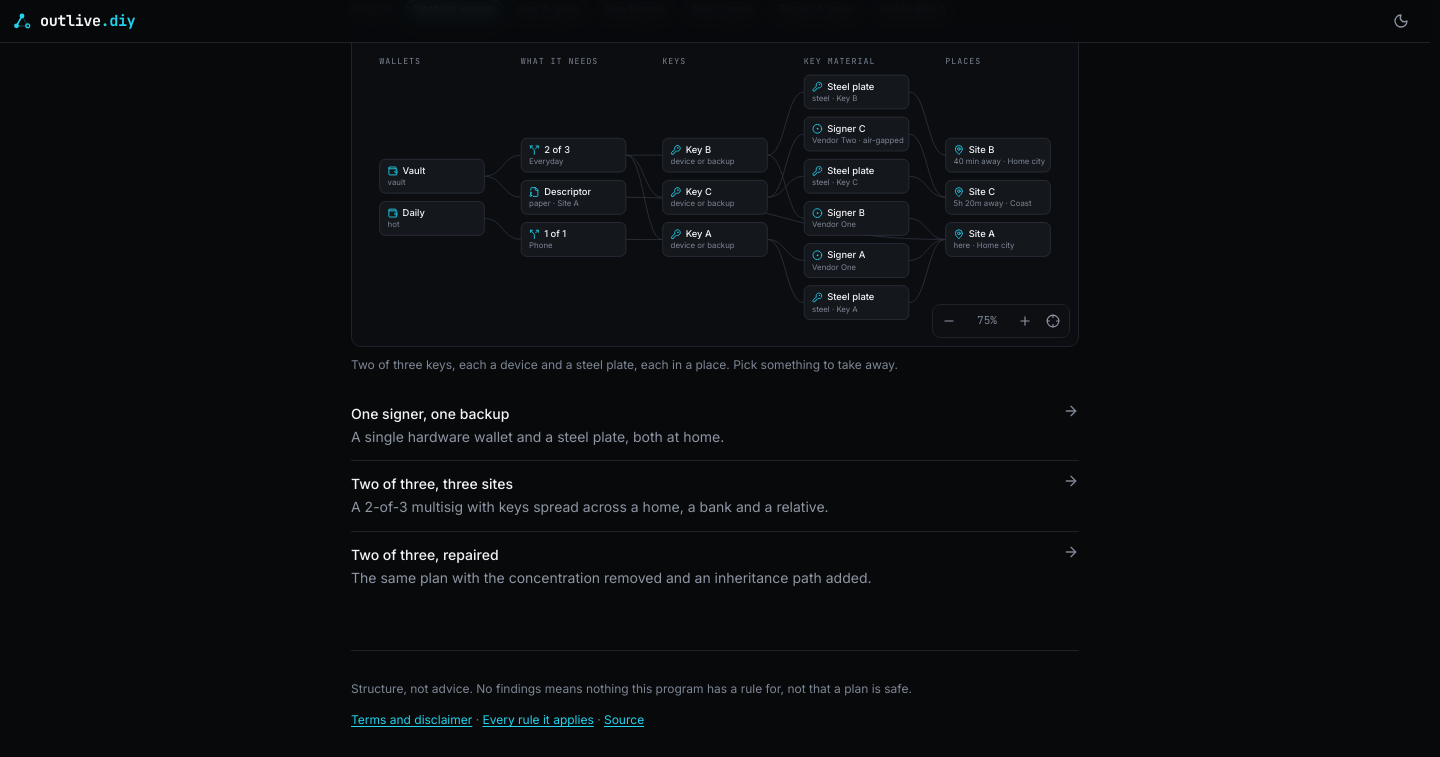
the input guard, in the interface › refuses to store seed words typed into a label
(page scrolled)
Step 1. Click the text "One signer, one backup" → x=430, y=413, box [351,405,509,422]
(page scrolled)
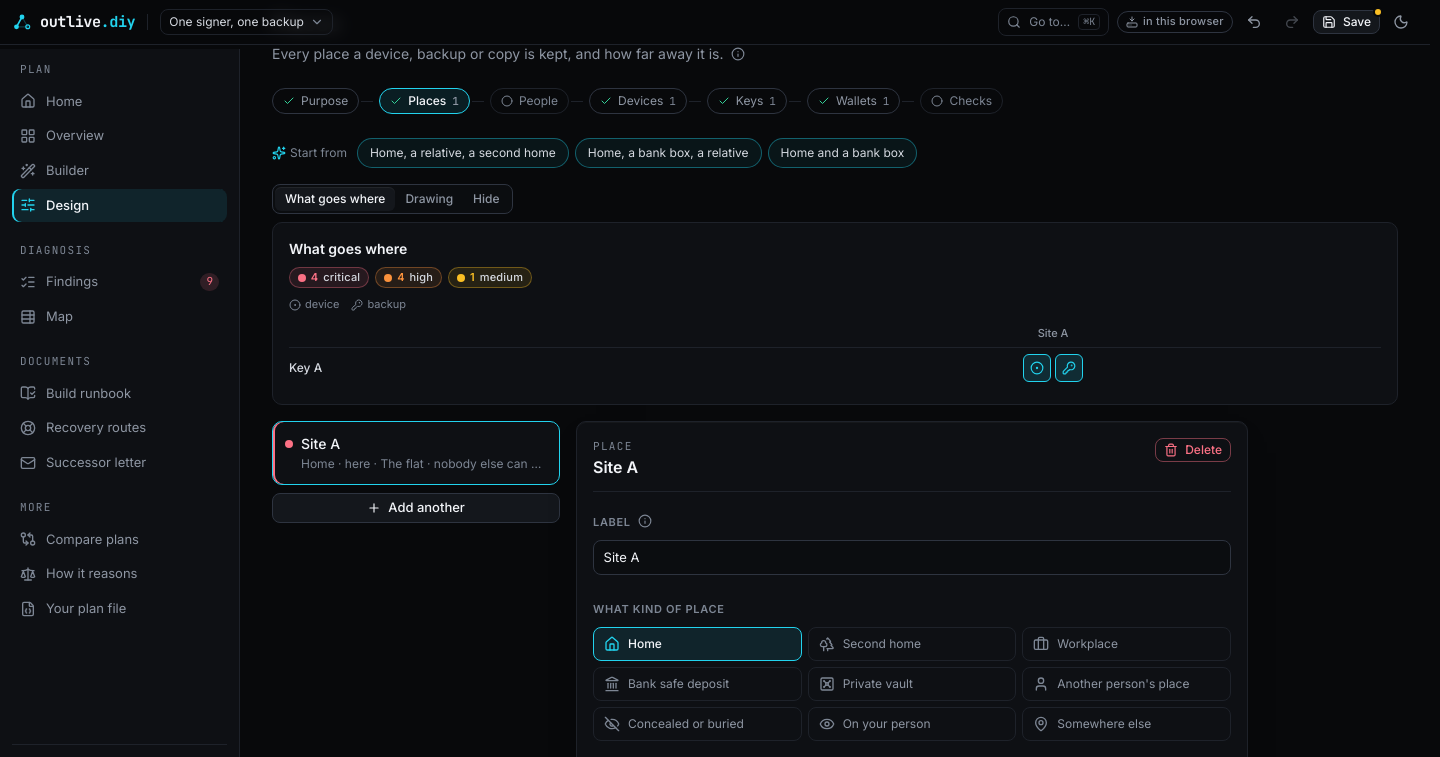
Step 2. Clear the field labelled "Label" → x=912, y=558, box [593,540,1231,575]
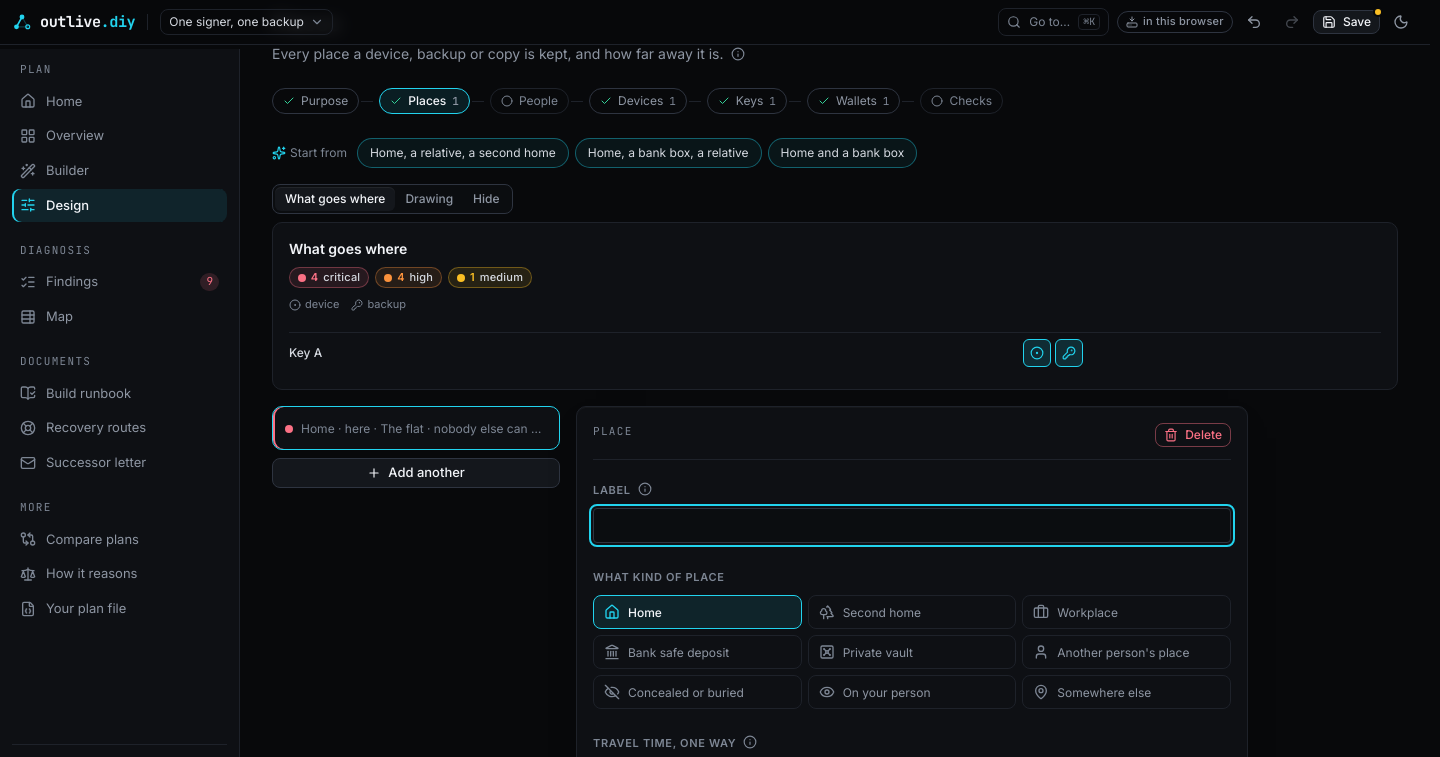
Step 3. Type "legal winner thank year wave sausage worth useful" into the field labelled "Label" → x=912, y=526, box [593,508,1231,544]
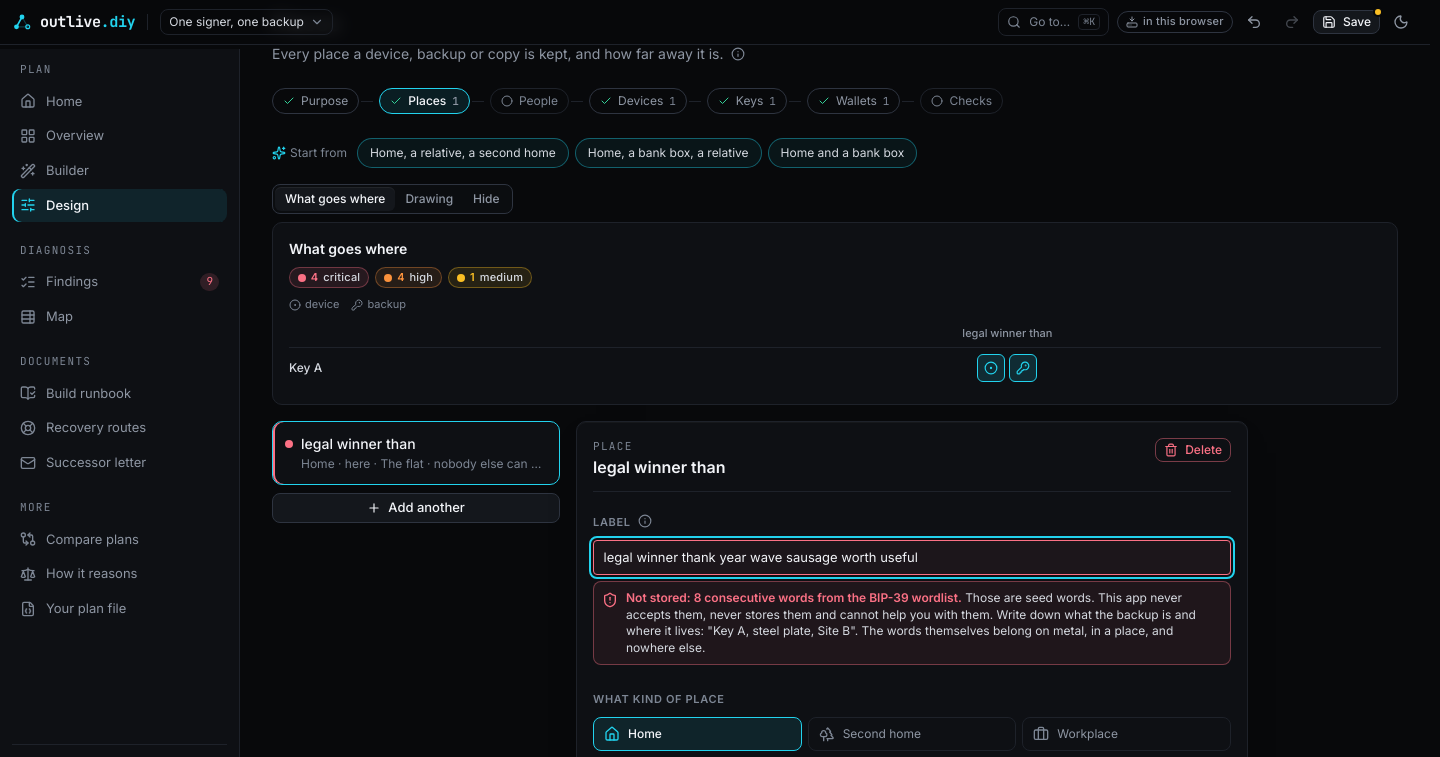
Expected: the message does not show "sausage", [593,581,1231,665]
Result: the message shows "Not stored" at [626,590,694,605]
Result: the message shows "consecutive words from the BIP-39 wordlist" at [694,590,958,605]
